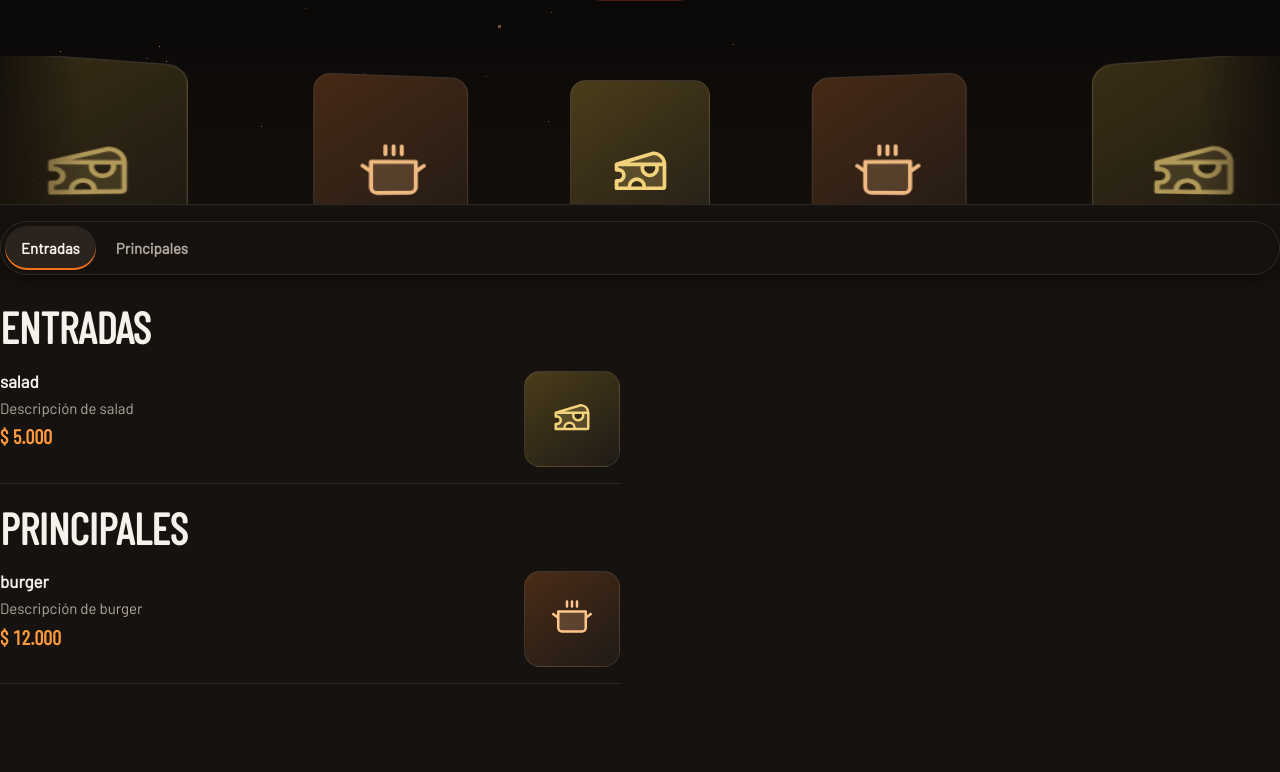
Test: MenuScreen con el pedido en curso (T8) › tocar la barra abre el resumen con las líneas
(page scrolled)
Click the button "salad Descripción de salad $ 5.000" at (19, 381), box [0,355,620,483]
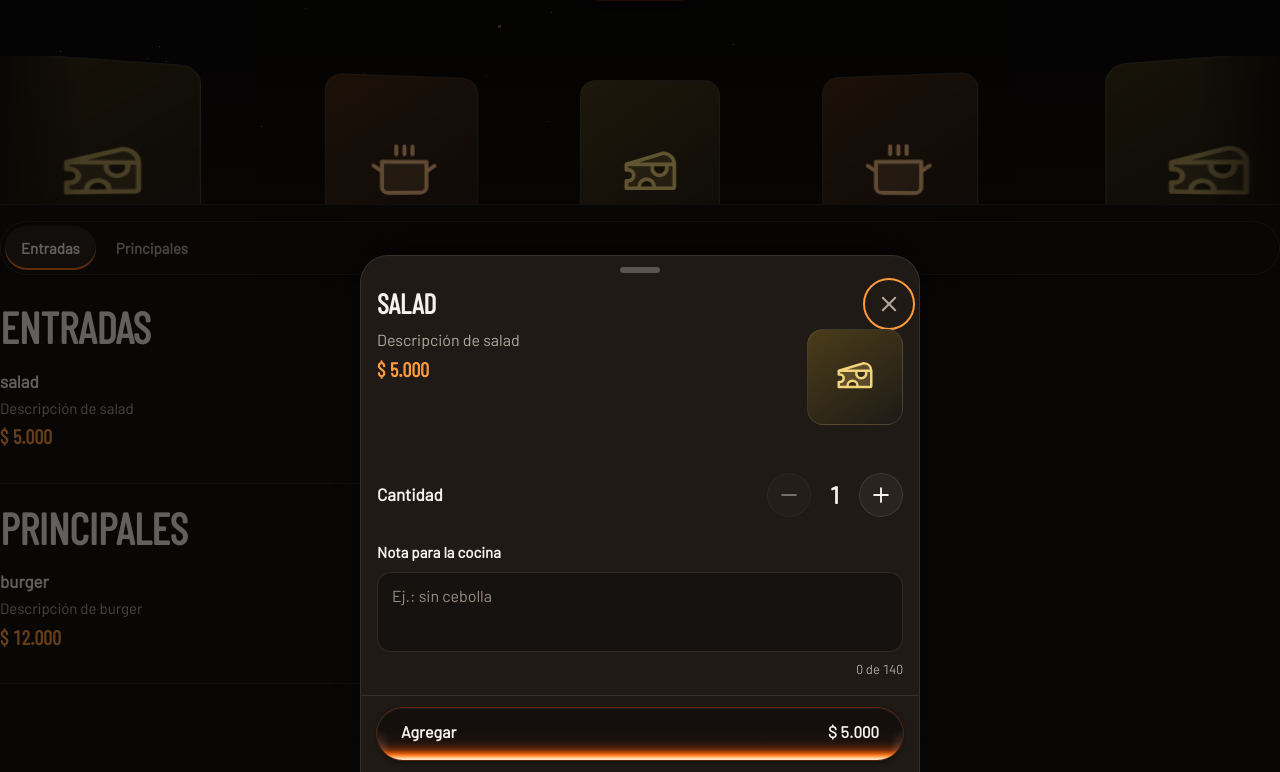
Click the button "Agregar $ 5.000" at (429, 732), box [377,708,903,760]
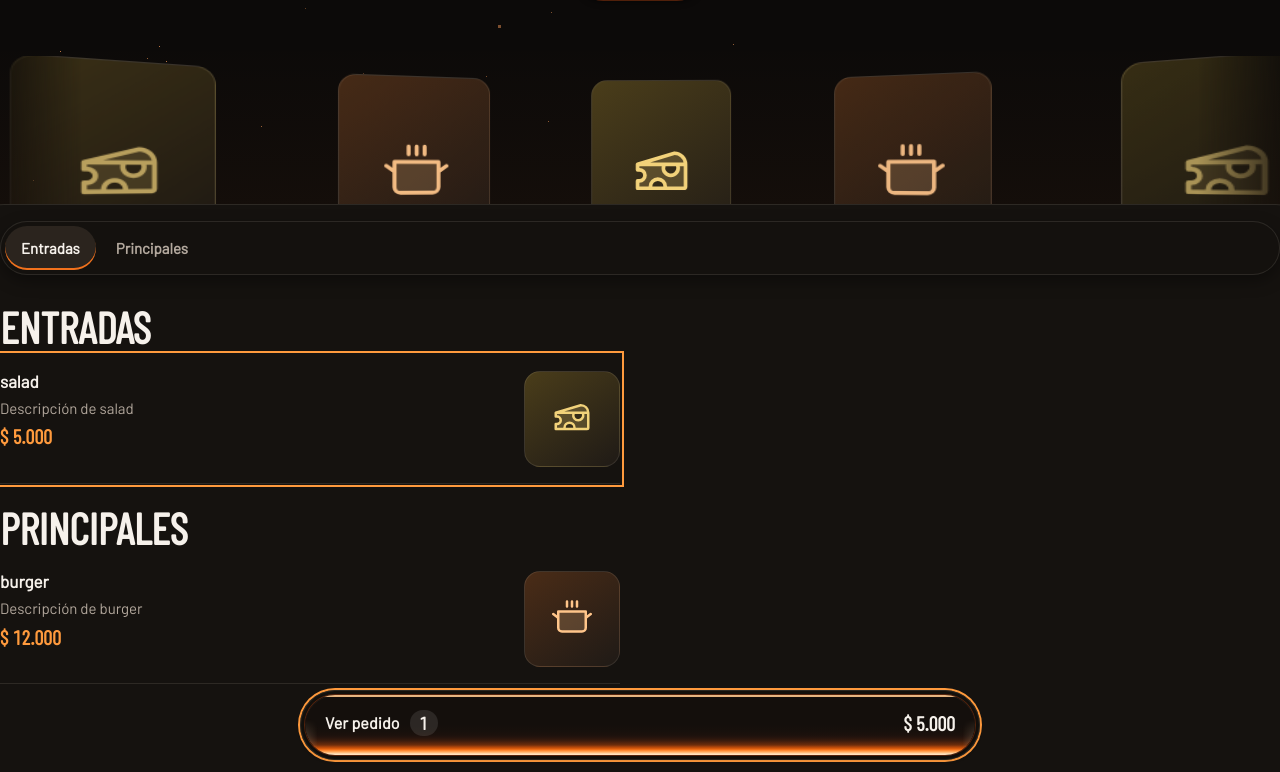
Click the button "Ver pedido 1 $ 5.000" at (362, 722), box [305,695,975,755]
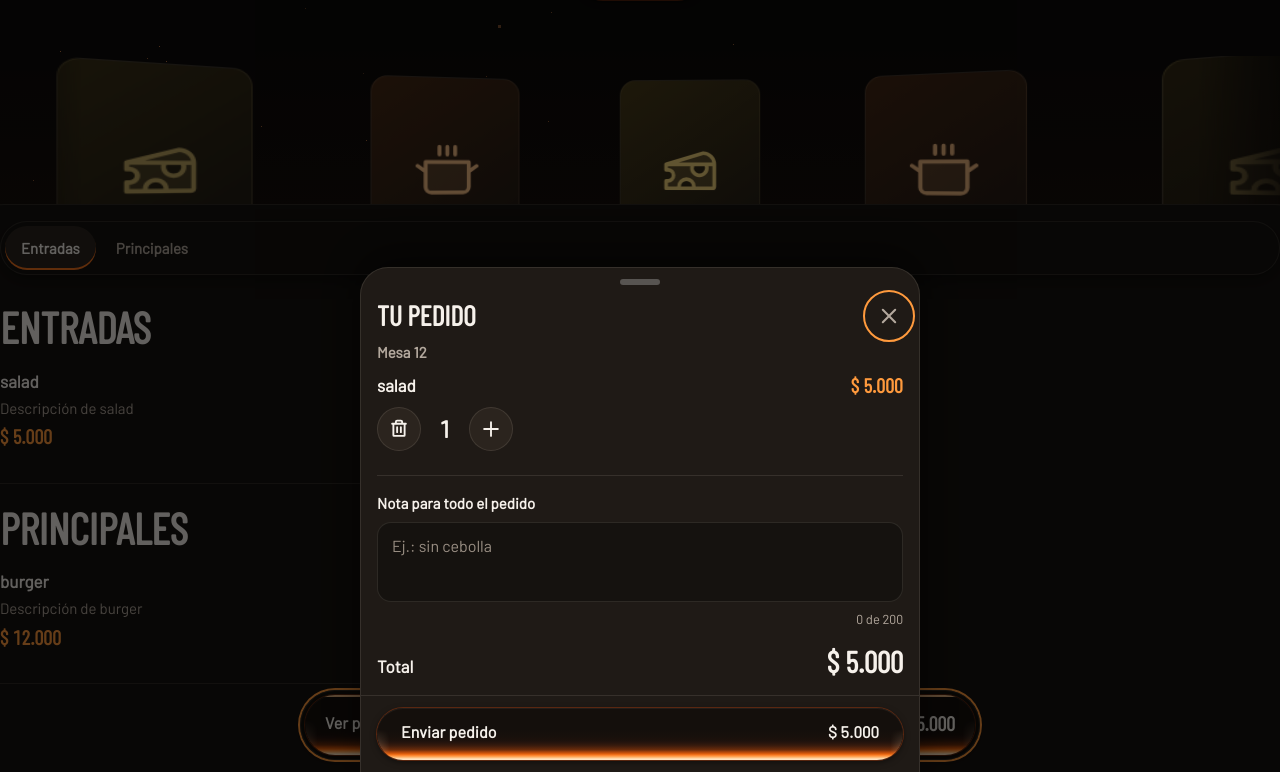
Check: the element named "Cantidad: salad" is shown, box [377,406,513,450]
